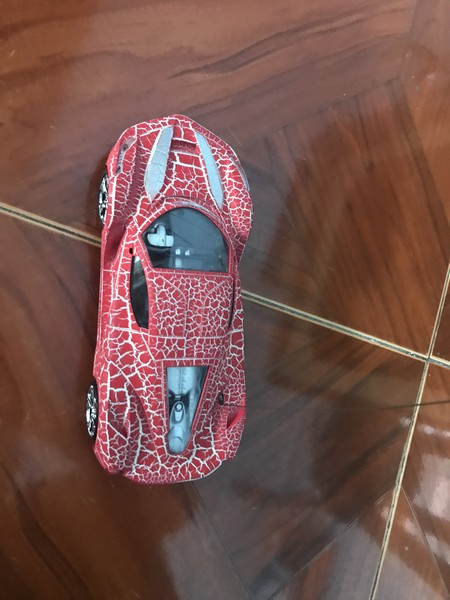RC: (84, 109, 256, 485)
